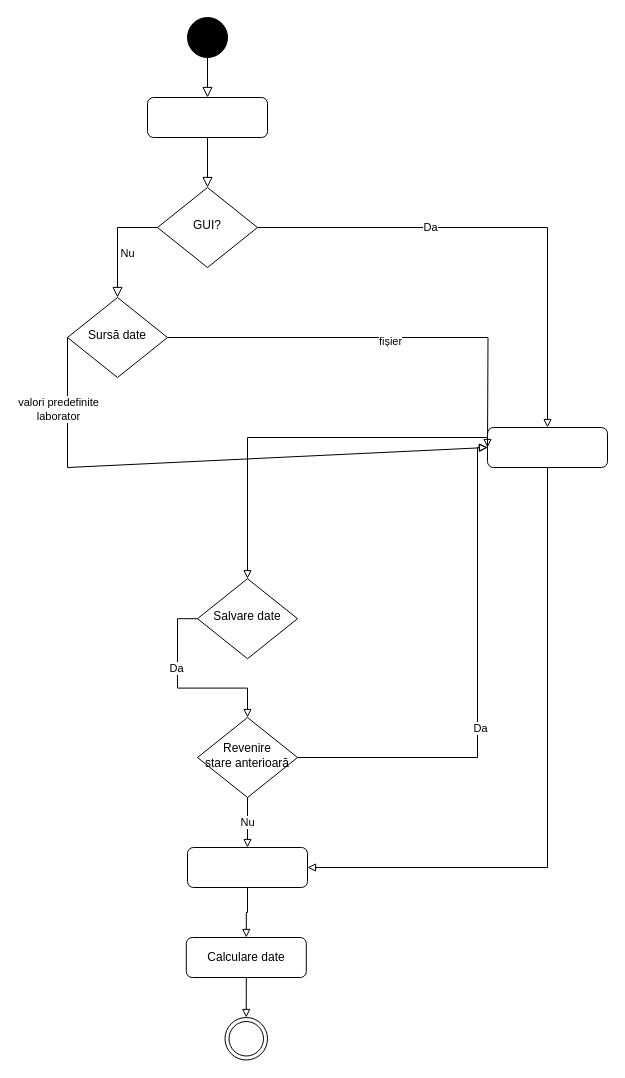
This 625x1078 diagram has some shape labels left out. Here are the shapes that lost their labels. From the top down, the box of each, then its label:
(146, 96, 268, 138): Încarcă date
(486, 426, 608, 468): Valori încărcare
(186, 846, 308, 888): Alegere noduri de interes
